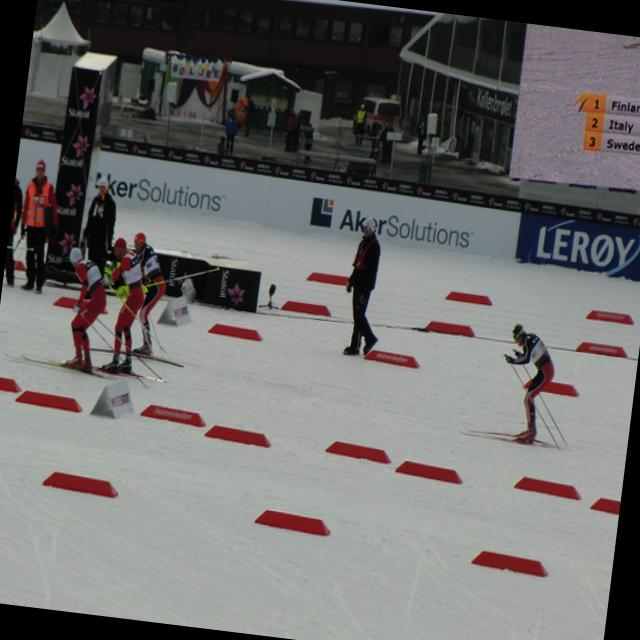Vehicle: (352, 93, 404, 138)
